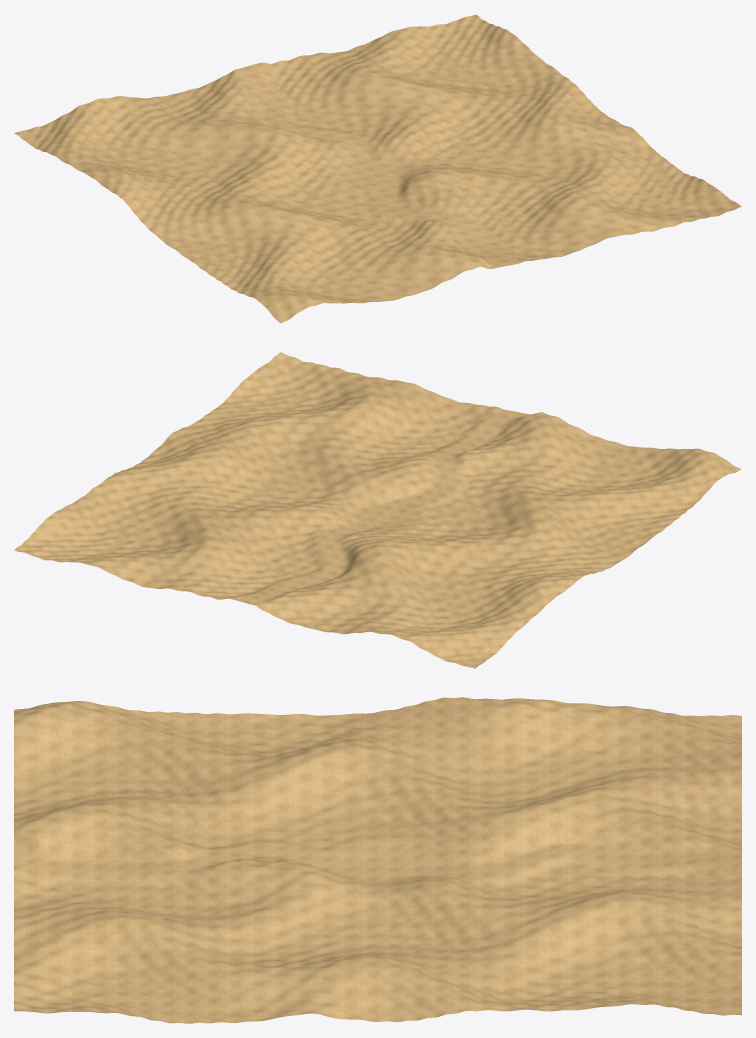
File: dunes.obj
3 renders of one model, top to bottom at view 1: azimuth 30°, elevation 25°; view 2: azimuth 150°, elevation 25°; view 3: azimuth 270°, elevation 25°, orthographic. The views are drawn at different scales.
Parts seen in each view (by area): view 1: dunes; view 2: dunes; view 3: dunes.
Part boxes in pixels (x1=…): dunes: x1=14, y1=14, x2=741, y2=323; dunes: x1=14, y1=352, x2=741, y2=668; dunes: x1=14, y1=697, x2=741, y2=1023.
Size of the model in its own units: 160 by 5.63 by 160.
Materials: 1 (1 with a texture image).
